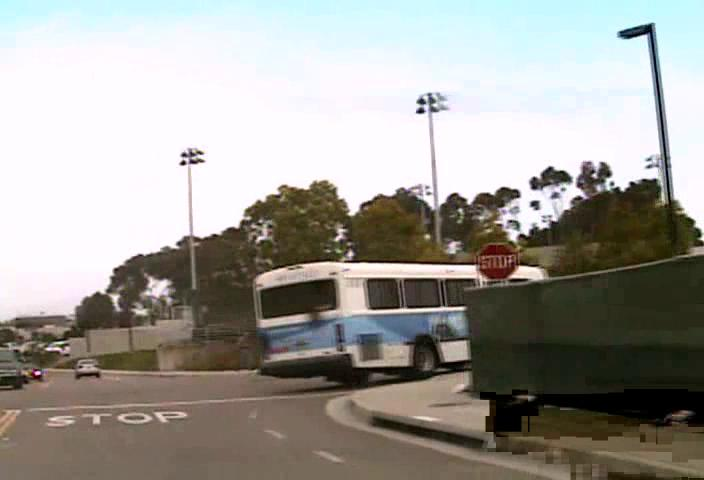stop: (476, 241, 517, 281)
